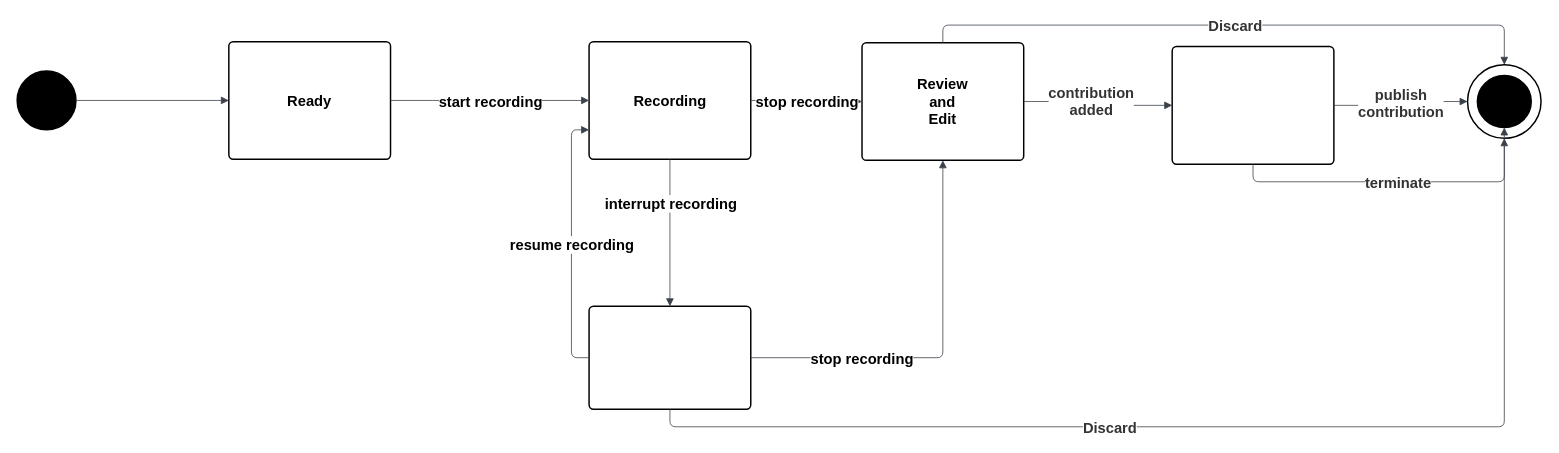
This 1559x453 diagram has some shape labels left out. The centre of each missing label's shape, as x and y in pixels:
Interrupted: pixel 669 357
Trip Saved: pixel 1252 104
